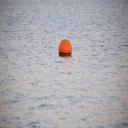red: (59, 39, 72, 55)
